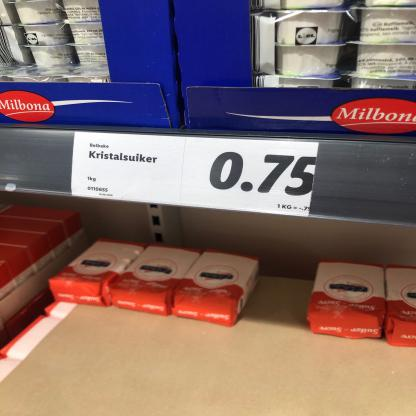prtg: (71, 133, 321, 218)
